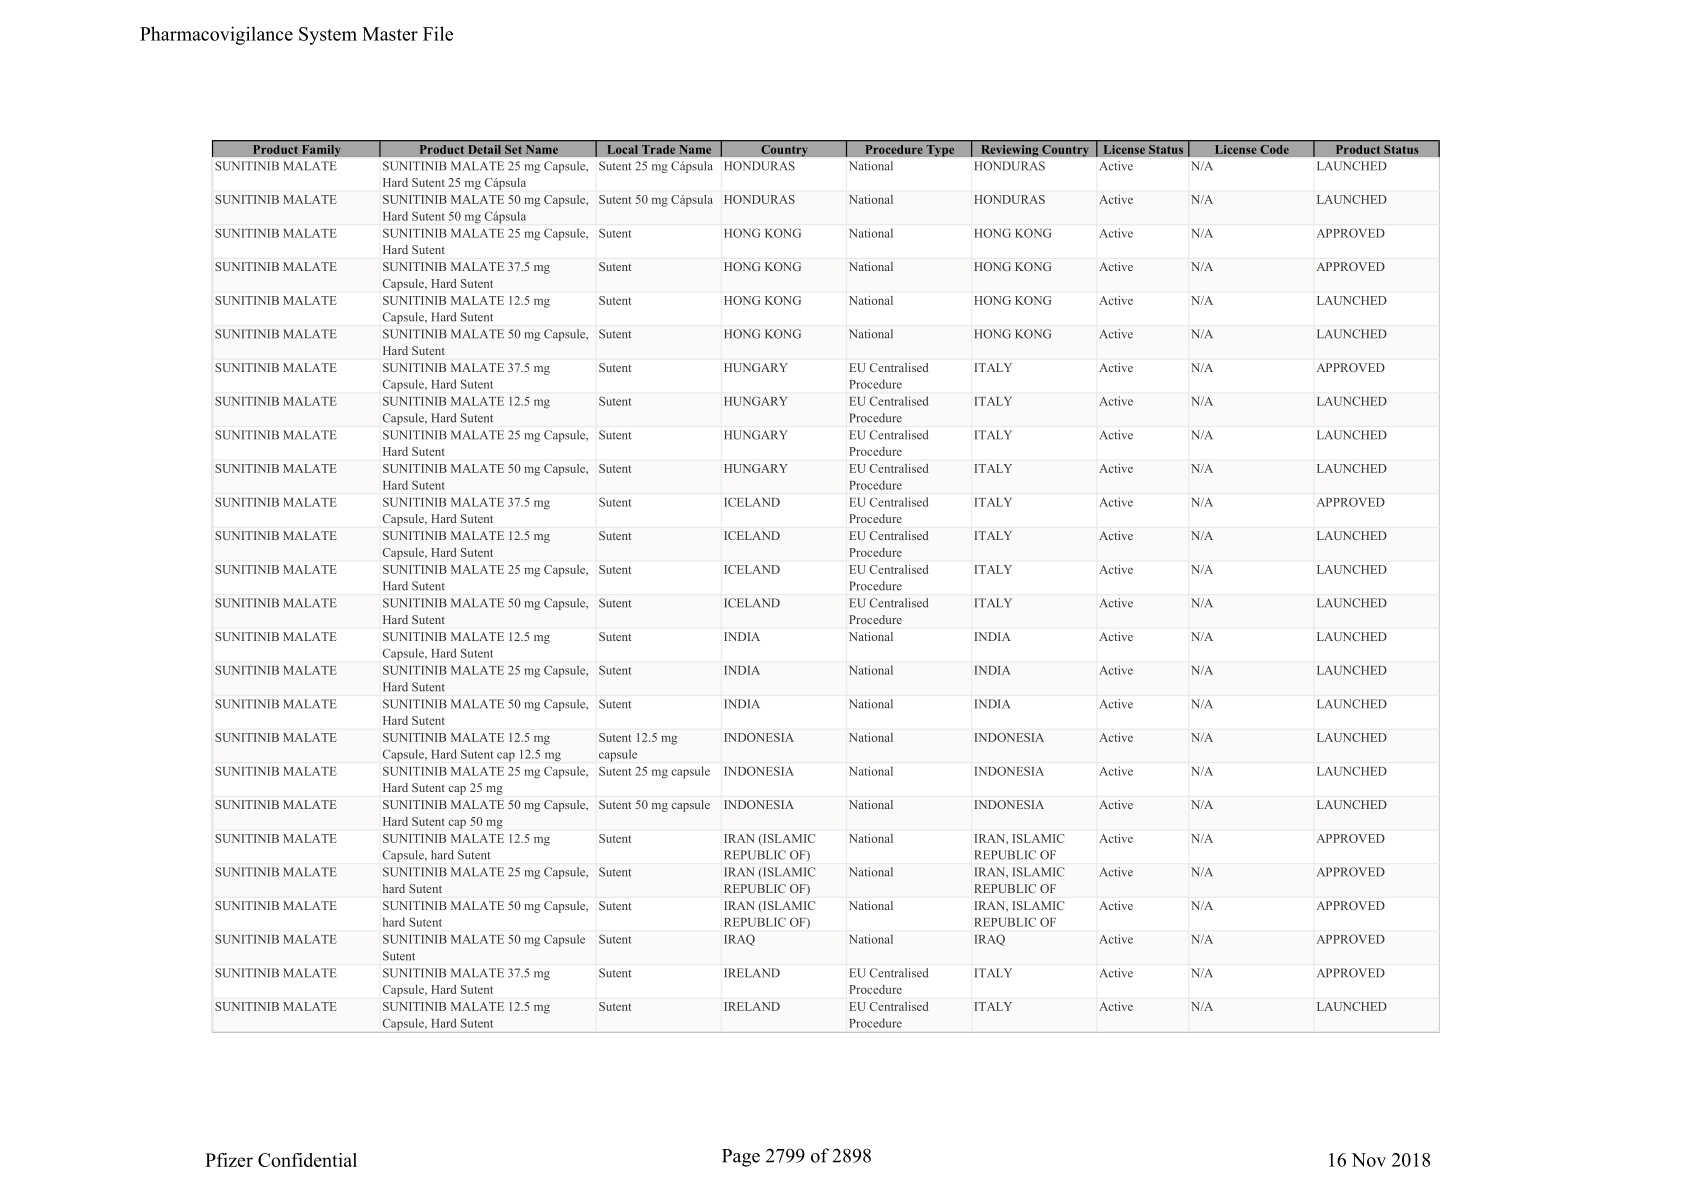full_lined: (211, 139, 1441, 1034)
